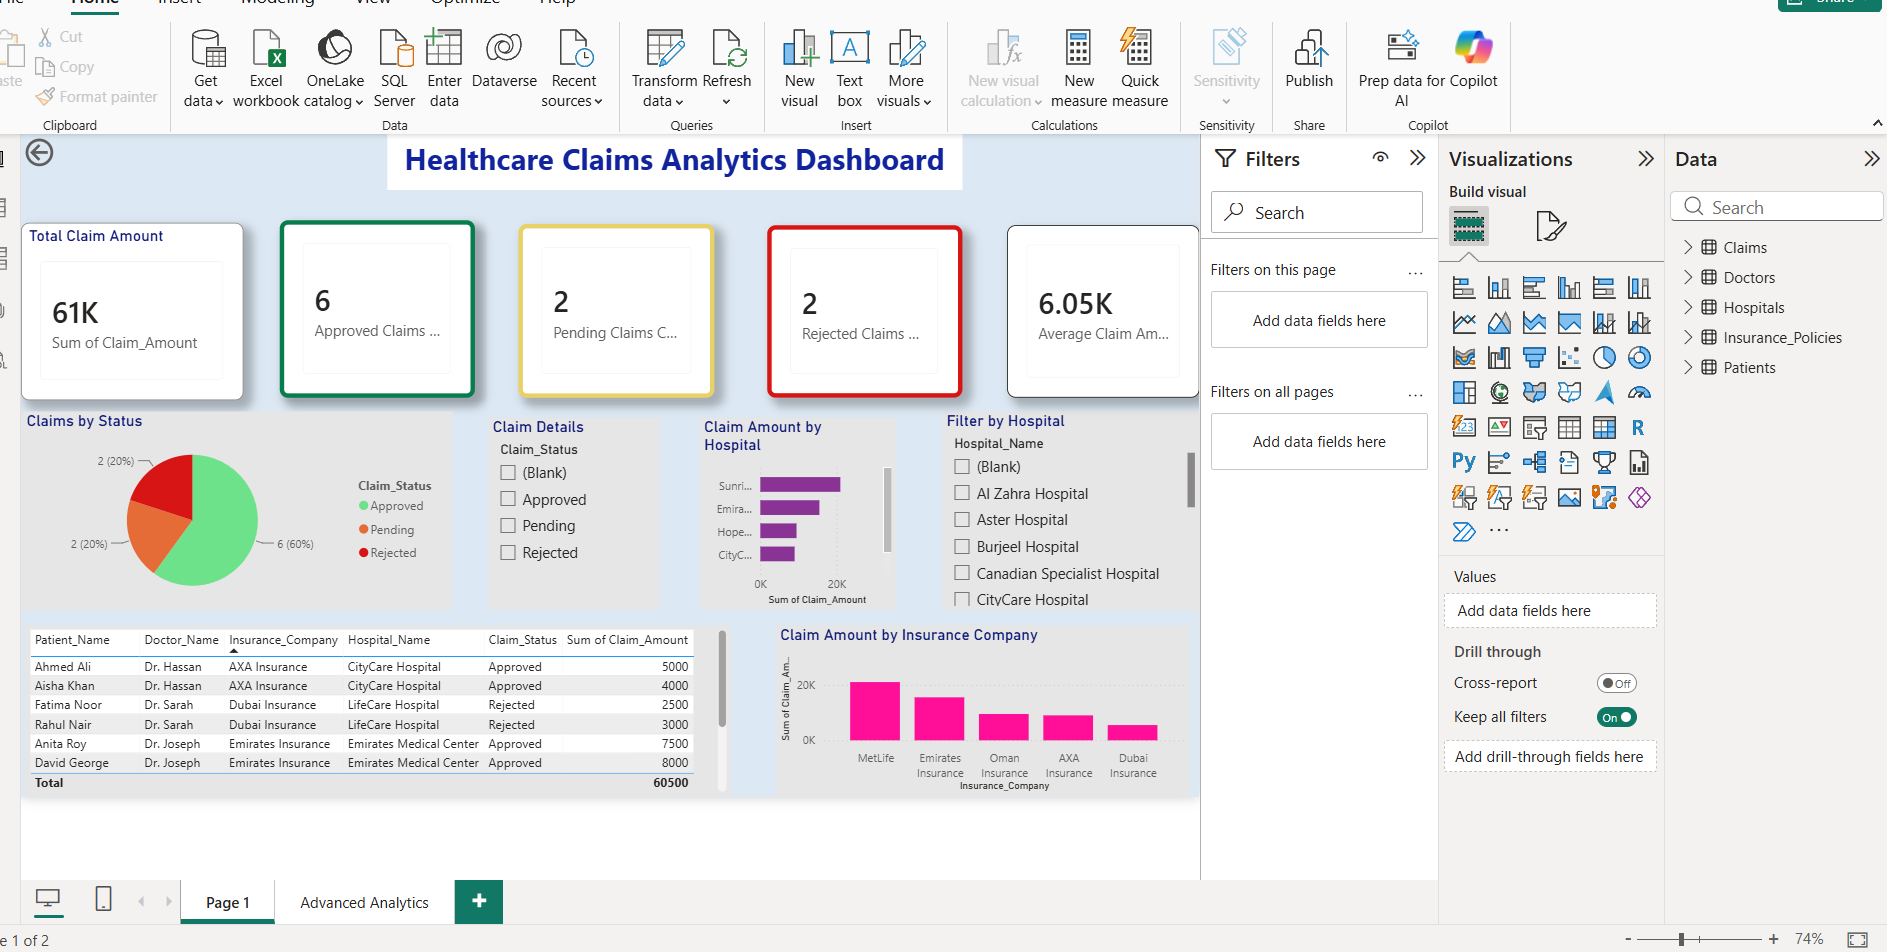

What the dashboard file says about the page in this screenshot:
{"tool":"powerbi","page":{"name":"Page 1","canvas":[1280,720],"ordinal":0},"visuals":[{"type":"cardVisual","title":"Total Claim Amount","fields":{"Data":["Sum(Claims.Claim_Amount)"]},"box":[0,96.4,241.7,192.8],"z":0},{"type":"cardVisual","fields":{"Data":["Claims.Approved Claims Count"]},"box":[281,93.7,211.8,192.8],"z":1000},{"type":"pieChart","title":"Claims by Status","fields":{"Category":["Claims.Claim_Status"],"Y":["CountNonNull(Claims.Claim_ID)"]},"box":[1.4,301.4,467,215.9],"z":2000},{"type":"clusteredBarChart","title":"Claim Amount by Hospital","fields":{"Category":["Hospitals.Hospital_Name"],"Y":["Sum(Claims.Claim_Amount)"]},"box":[737.2,308.2,213.2,209.1],"z":3000},{"type":"clusteredColumnChart","title":"Claim Amount by Insurance Company","fields":{"Category":["Insurance_Policies.Insurance_Company"],"Y":["Sum(Claims.Claim_Amount)"]},"box":[820,533.6,449.4,186],"z":4000},{"type":"tableEx","fields":{"Values":["Patients.Patient_Name","Doctors.Doctor_Name","Insurance_Policies.Insurance_Company","Hospitals.Hospital_Name","Claims.Claim_Status","Sum(Claims.Claim_Amount)"]},"box":[4.1,533.6,767.1,186],"z":5000},{"type":"actionButton","box":[0,0,100,40],"z":6000},{"type":"slicer","title":"Claim Details","fields":{"Values":["Claims.Claim_Status"]},"box":[507.8,308.2,186,209.1],"z":7000},{"type":"slicer","title":"Filter by Hospital","fields":{"Values":["Hospitals.Hospital_Name"]},"box":[1000.6,301.4,279.7,215.9],"z":8000},{"type":"textbox","box":[397.8,0,624.5,61.1],"z":9000},{"type":"cardVisual","fields":{"Data":["Claims.Pending Claims Count"]},"box":[540.3,97.8,213.2,188.7],"z":10000},{"type":"cardVisual","fields":{"Data":["Claims.Rejected Claims Count"]},"box":[810.5,99.1,211.8,187.4],"z":11000},{"type":"cardVisual","fields":{"Data":["Claims.Average Claim Amount"]},"box":[1071.2,99.1,209.1,187.4],"z":12000}]}

Visuals, with their boxes on the page's 1280x720 design canvas (x1, y1, x2, y2). These are canvas units, not pixel positions in the 1887x952 screenshot, which may show the page scaled, cropped or inside an application window:
"Total Claim Amount" cardVisual: locate(0, 96, 242, 289)
cardVisual - Claims.Approved Claims Count: locate(281, 94, 493, 286)
"Claims by Status" pieChart: locate(1, 301, 468, 517)
"Claim Amount by Hospital" clusteredBarChart: locate(737, 308, 950, 517)
"Claim Amount by Insurance Company" clusteredColumnChart: locate(820, 534, 1269, 720)
tableEx - Patients.Patient_Name x Doctors.Doctor_Name: locate(4, 534, 771, 720)
actionButton: locate(0, 0, 100, 40)
"Claim Details" slicer: locate(508, 308, 694, 517)
"Filter by Hospital" slicer: locate(1001, 301, 1280, 517)
textbox: locate(398, 0, 1022, 61)
cardVisual - Claims.Pending Claims Count: locate(540, 98, 754, 286)
cardVisual - Claims.Rejected Claims Count: locate(810, 99, 1022, 286)
cardVisual - Claims.Average Claim Amount: locate(1071, 99, 1280, 286)
